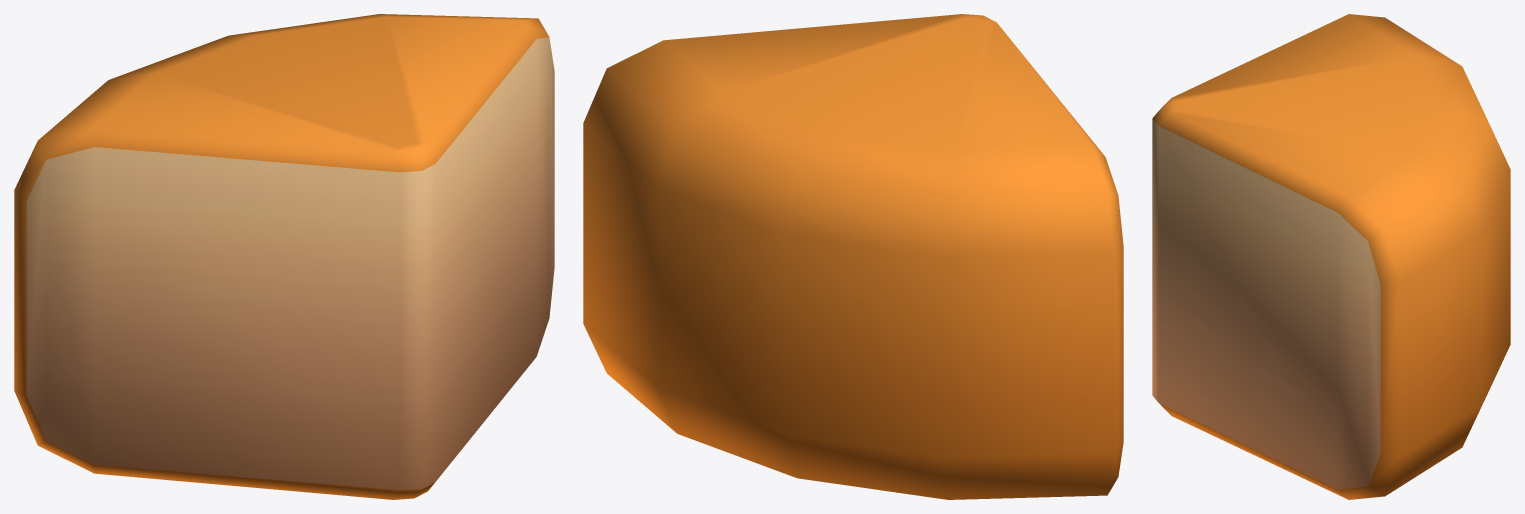
File: SM_Cheese_3.3.fbx
3 renders of one model, left to right at view 1: azimuth 30°, elevation 25°; view 2: azimuth 150°, elevation 25°; view 3: azimuth 270°, elevation 25°, orthographic. The views are drawn at different scales.
Visible parts, largest first — view 1: SM_Cheese_3.3; view 2: SM_Cheese_3.3; view 3: SM_Cheese_3.3.
Part boxes in pixels (x1,y1,x2,y2): SM_Cheese_3.3: (14, 14, 554, 499); SM_Cheese_3.3: (583, 14, 1123, 499); SM_Cheese_3.3: (1152, 14, 1510, 499).
Bounding box in the file's own units: 23.24 × 14.57 × 15.6.
Materials: 1 (1 with a texture image).
